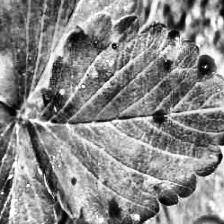Leaf Spot: (21, 9, 224, 224), (0, 98, 58, 224)
